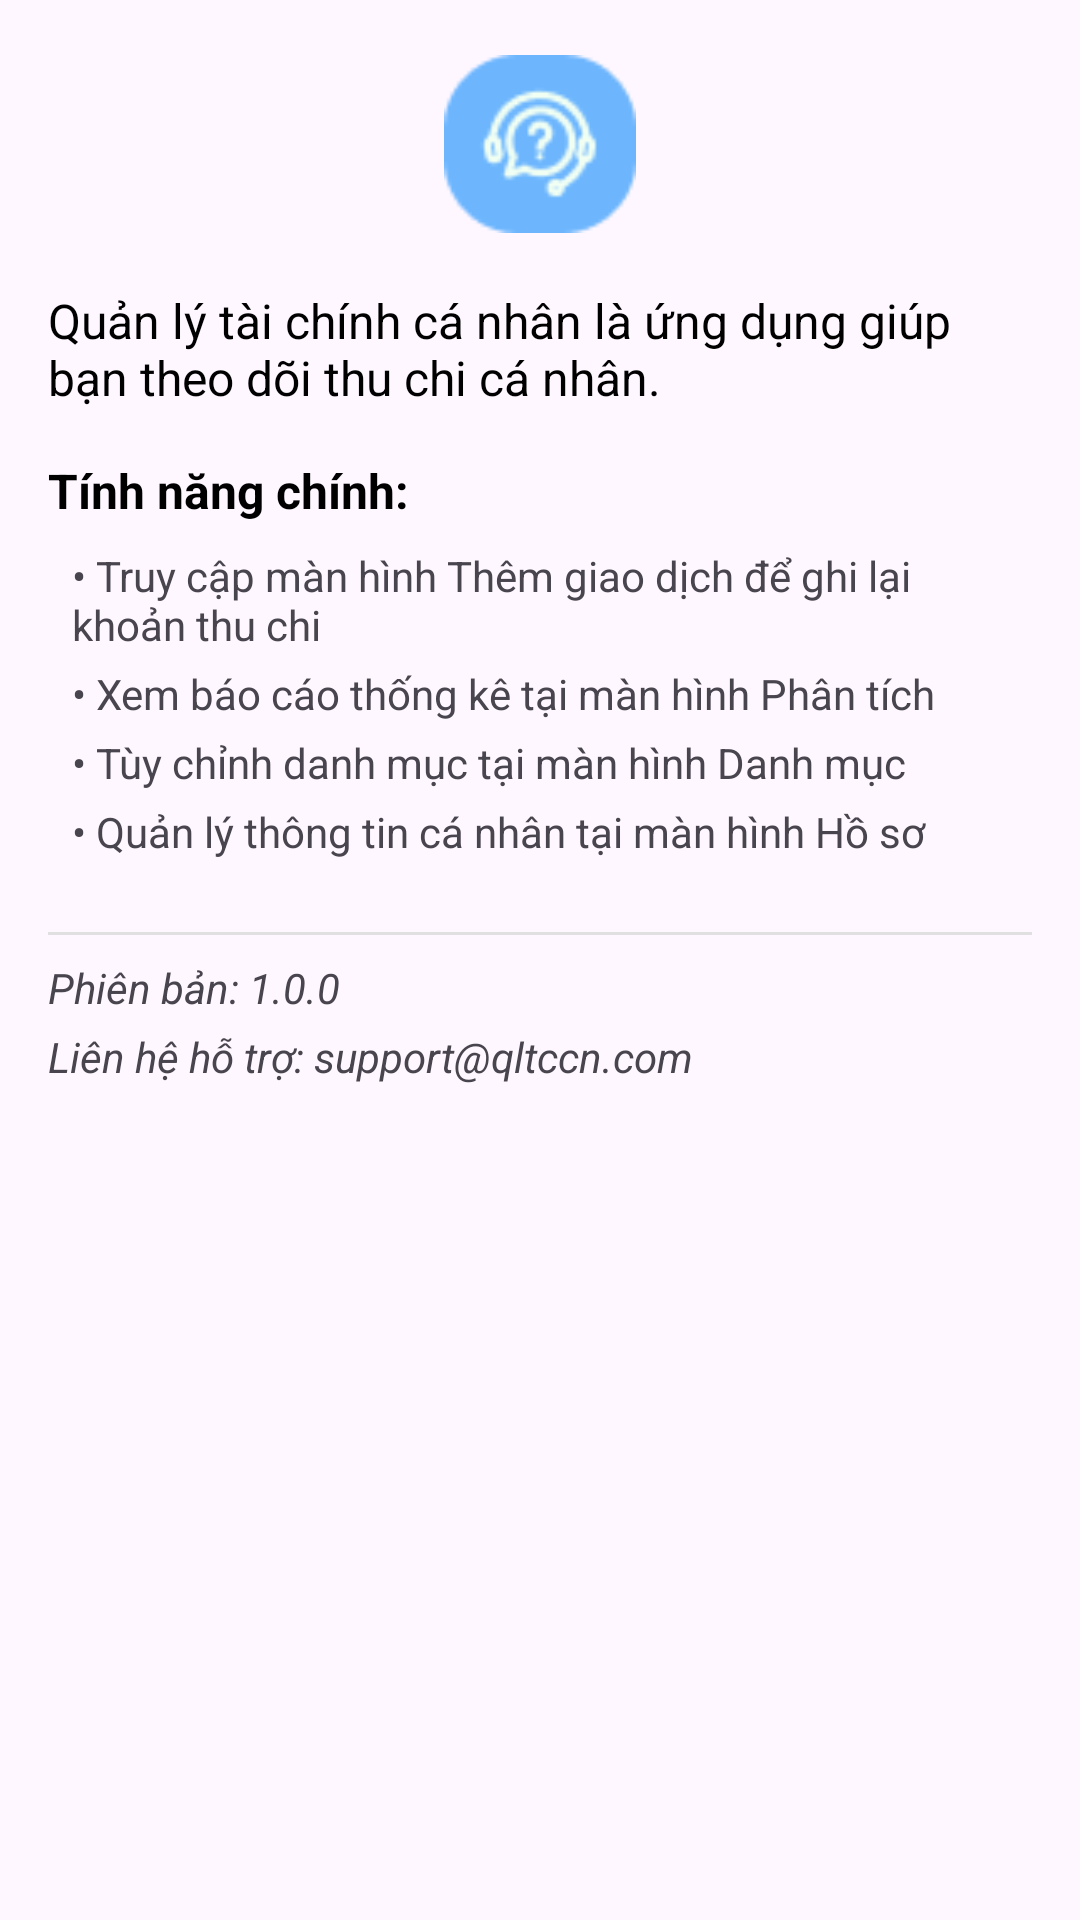

Icons on this 1080*1920 Android screen, each with the point to tap as (x=x, y=y):
Help Icon: (x=540, y=144)
